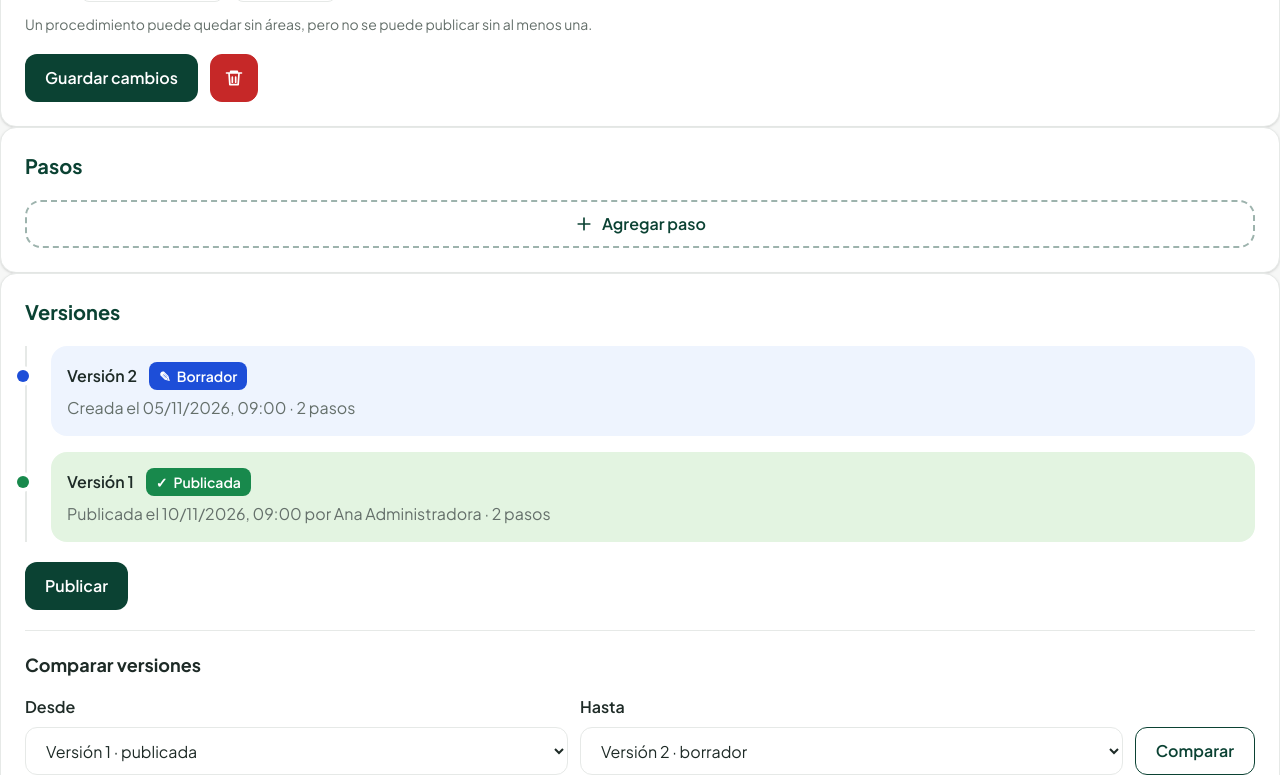
Test: an error of publishing does not outlive the change that fixes it (spec 015, R3) › it stays while nothing changes
The width and height of the screenshot is (1280, 775).
(page scrolled)
Click the button "Publicar" at (76, 586), box 25,562 -> 128,610
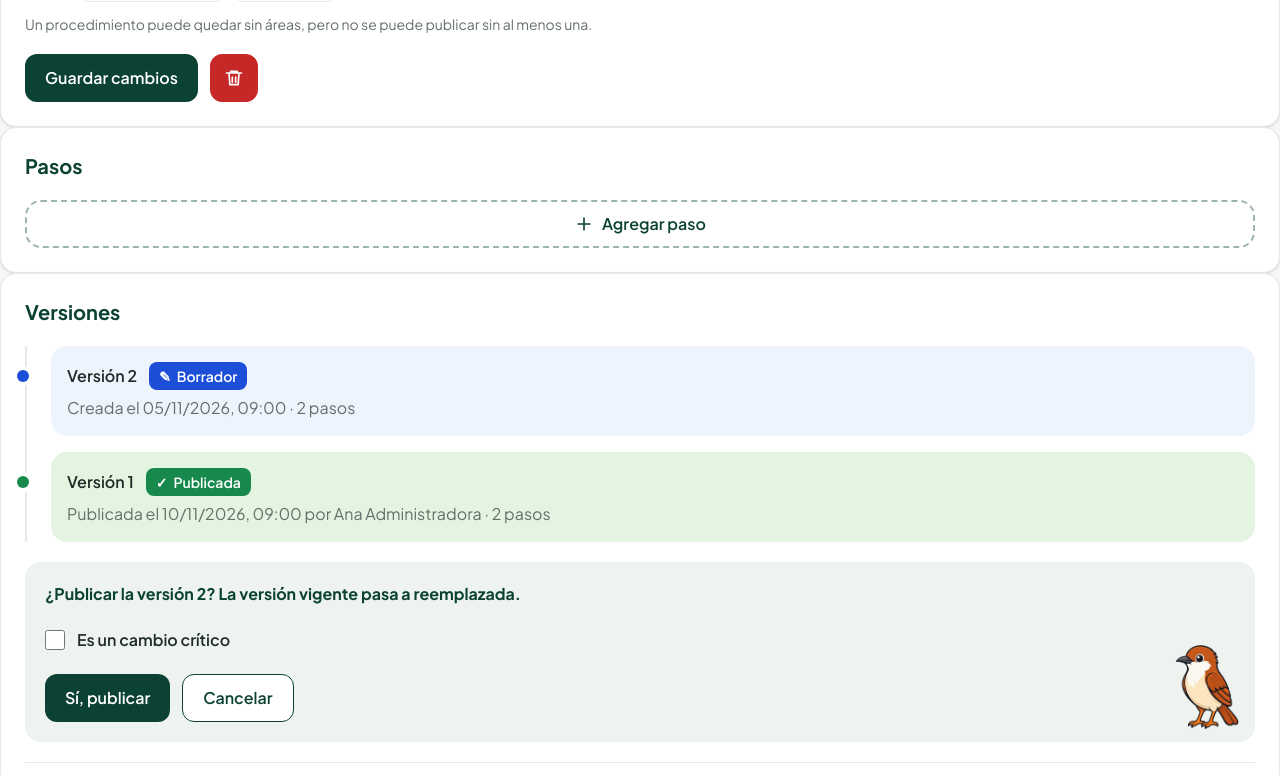
Click the button "Sí, publicar" at (108, 698), box 45,674 -> 170,722
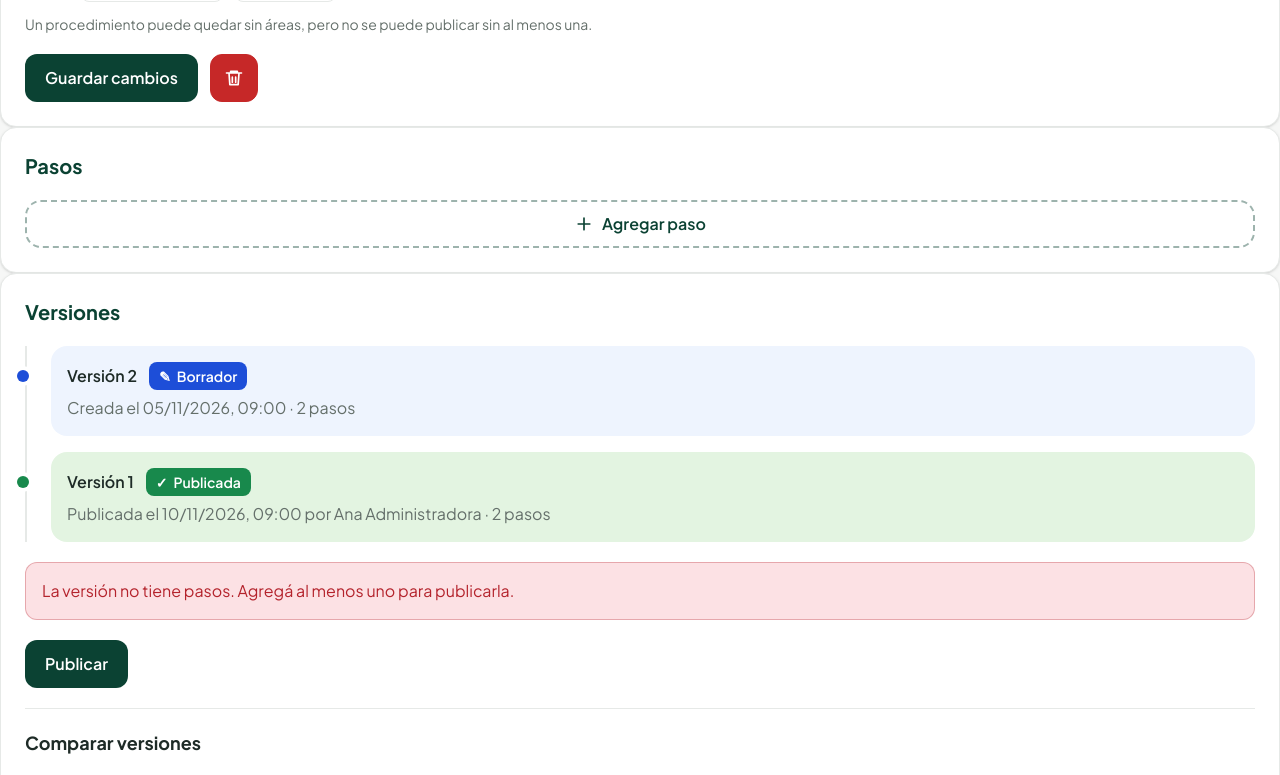
Expected: the list named "Versiones" is shown, 25,346 -> 1255,542
Expected: the text "La versión no tiene pasos. Agregá al menos uno para publicarla." is shown, 25,562 -> 1255,620
